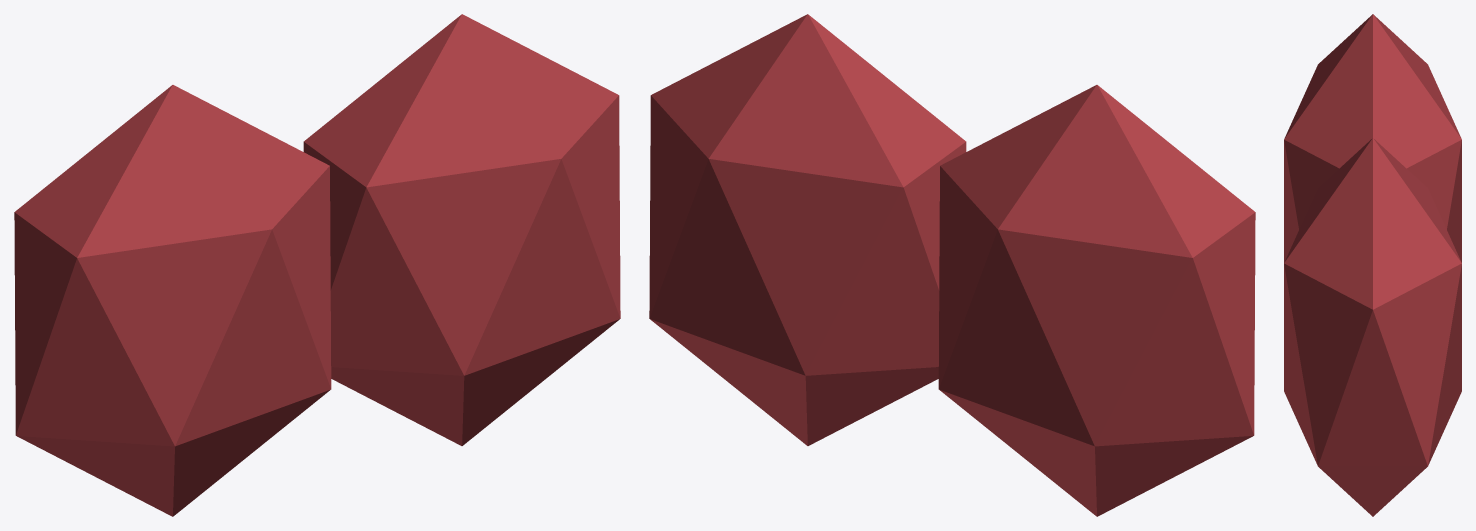
Rendered from wk_muscle_chest_v01.glb.
3 renders of one model, left to right at view 1: azimuth 30°, elevation 25°; view 2: azimuth 150°, elevation 25°; view 3: azimuth 270°, elevation 25°, orthographic. The views are drawn at different scales.
Parts seen in each view (by area): view 1: GEO_MuscleChest-1, GEO_MuscleChest+1; view 2: GEO_MuscleChest-1, GEO_MuscleChest+1; view 3: GEO_MuscleChest+1, GEO_MuscleChest-1.
Boxes of the visible parts, x1=… form: GEO_MuscleChest-1: x1=14, y1=85, x2=331, y2=516; GEO_MuscleChest+1: x1=303, y1=14, x2=620, y2=445; GEO_MuscleChest-1: x1=938, y1=85, x2=1255, y2=516; GEO_MuscleChest+1: x1=649, y1=14, x2=966, y2=445; GEO_MuscleChest+1: x1=1284, y1=138, x2=1461, y2=516; GEO_MuscleChest-1: x1=1284, y1=14, x2=1461, y2=262.
Size of the model in its own units: 0.5841 by 0.4 by 0.1701.
